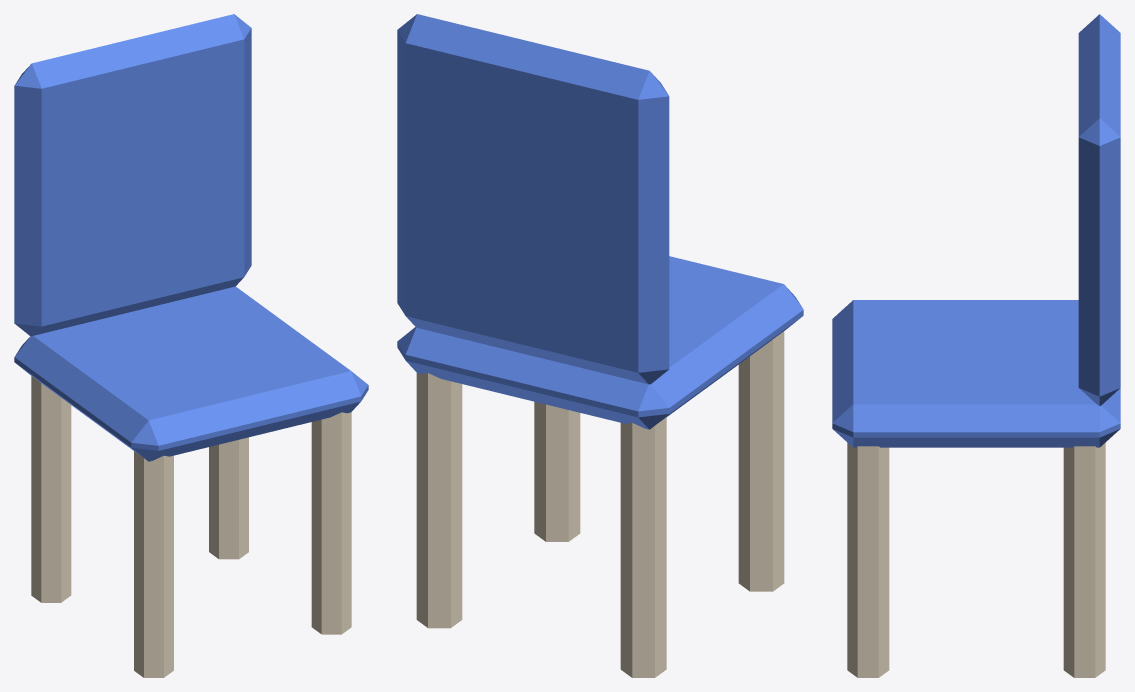
3 renders of one model, left to right at view 1: azimuth 30°, elevation 25°; view 2: azimuth 150°, elevation 25°; view 3: azimuth 270°, elevation 25°, orthographic. The views are drawn at different scales.
Visible parts, largest first — view 1: Backrest, Seat, Leg.002, Leg, Leg.001, Leg.003; view 2: Backrest, Seat, Leg.001, Leg.003, Leg, Leg.002; view 3: Seat, Backrest, Leg.002, Leg.003.
Boxes of the visible parts, box(x1,y1,x2,y2) form: Backrest: box(14, 14, 251, 336); Seat: box(14, 286, 368, 461); Leg.002: box(311, 412, 351, 634); Leg: box(134, 451, 173, 677); Leg.001: box(31, 376, 71, 602); Leg.003: box(209, 437, 248, 559); Backrest: box(397, 14, 669, 384); Seat: box(397, 256, 803, 429); Leg.001: box(620, 417, 666, 677); Leg.003: box(416, 373, 462, 628); Leg: box(738, 331, 784, 591); Leg.002: box(534, 401, 580, 541); Seat: box(832, 300, 1120, 447); Backrest: box(1078, 14, 1120, 405); Leg.002: box(847, 443, 889, 677); Leg.003: box(1063, 443, 1105, 677).
Size of the model in its own units: 0.48 by 1.02 by 0.48.
Materials: 1 (1 with a texture image).
